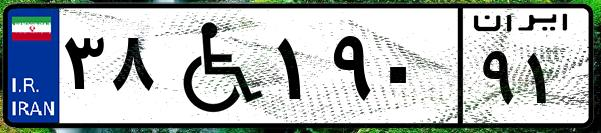0: (385, 28, 445, 110)
1: (270, 28, 330, 110), (525, 38, 570, 115)
3: (57, 26, 110, 100)
8: (110, 28, 158, 98)
9: (330, 28, 385, 110), (475, 38, 525, 113)
ژ (معلولین و جانبازان): (158, 12, 270, 120)
